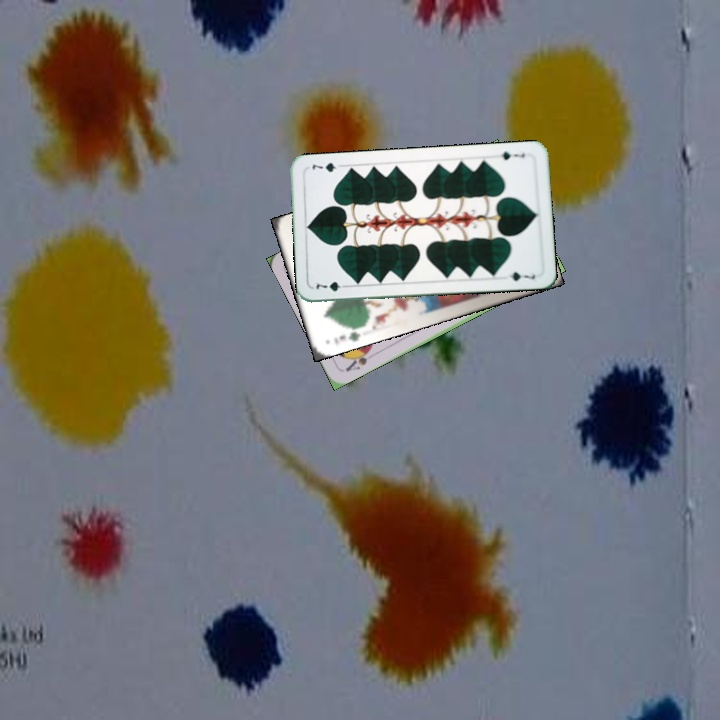G7: (311, 278, 352, 294), (497, 148, 527, 163)
GK: (330, 323, 363, 347)
SA: (341, 344, 375, 374)
